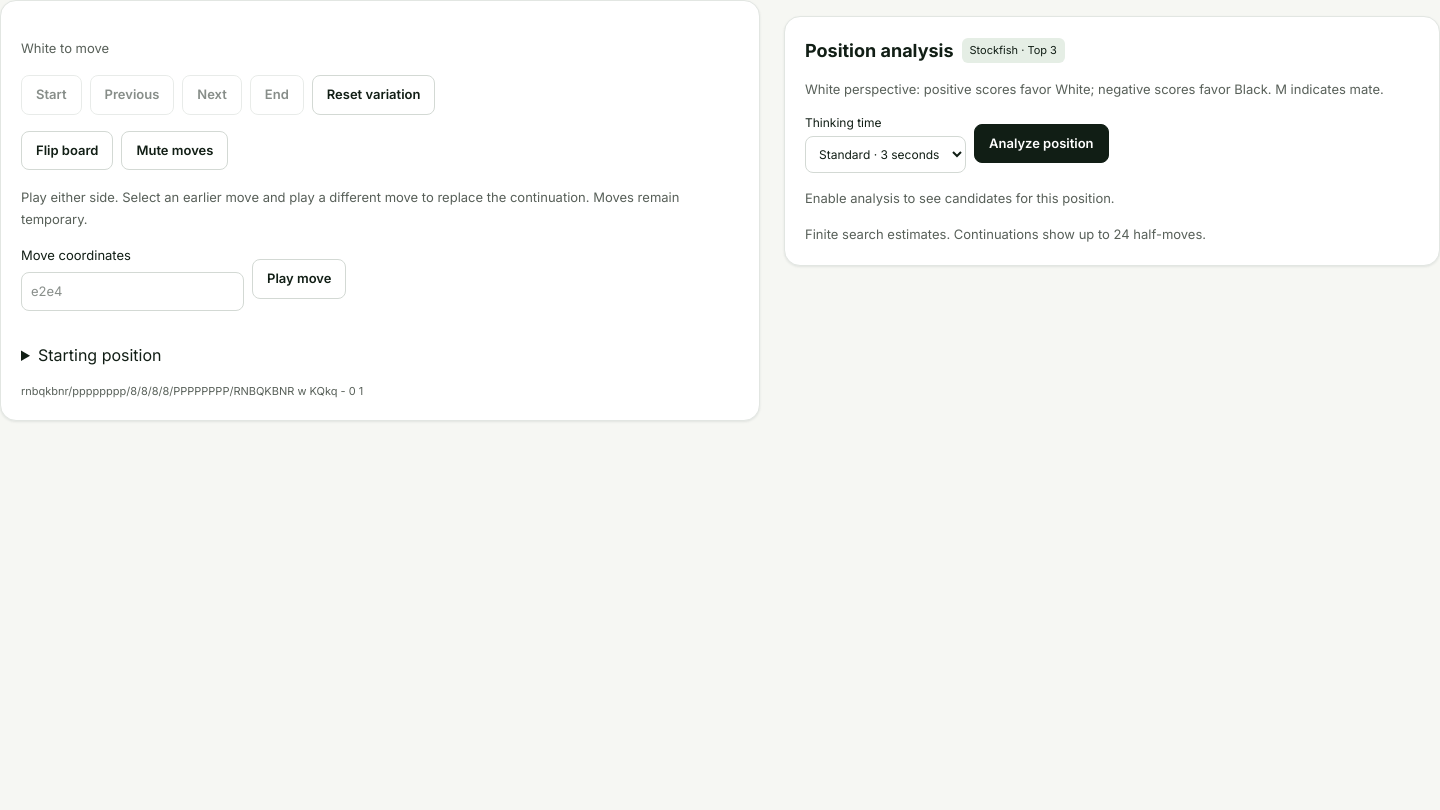
Scenario: promotes with the shared picker and respects terminal positions
The image size is (1440, 810).
Click the heading "Starting position" at point(100, 355), box top-left (38, 345), bottom-right (162, 365)
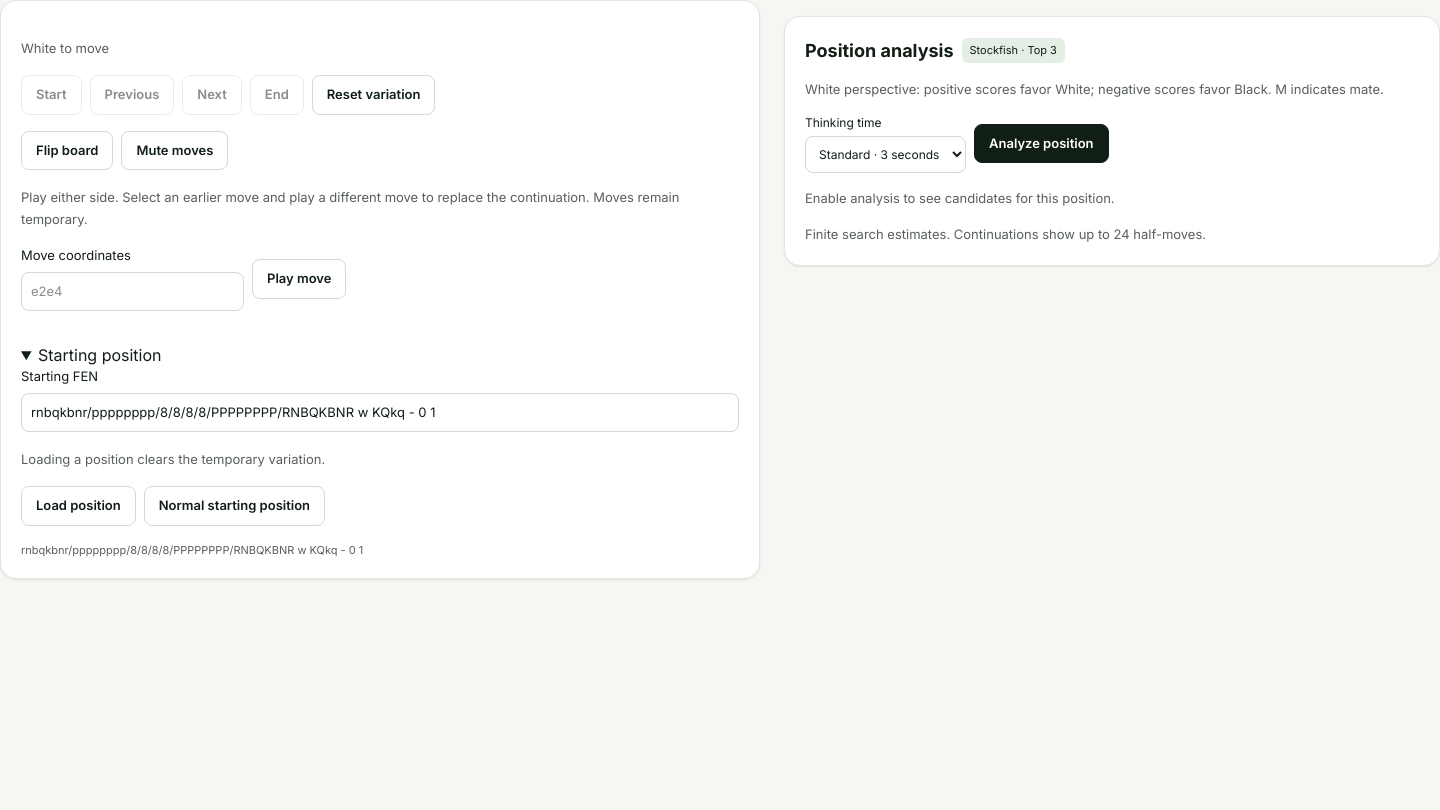
Replace the text in the field labelled "Starting FEN" with "7k/P7/8/8/8/8/8/7K w - - 0 1" at point(380, 413), box top-left (21, 393), bottom-right (739, 432)
Click the button "Load position" at point(78, 506), box top-left (21, 486), bottom-right (136, 526)
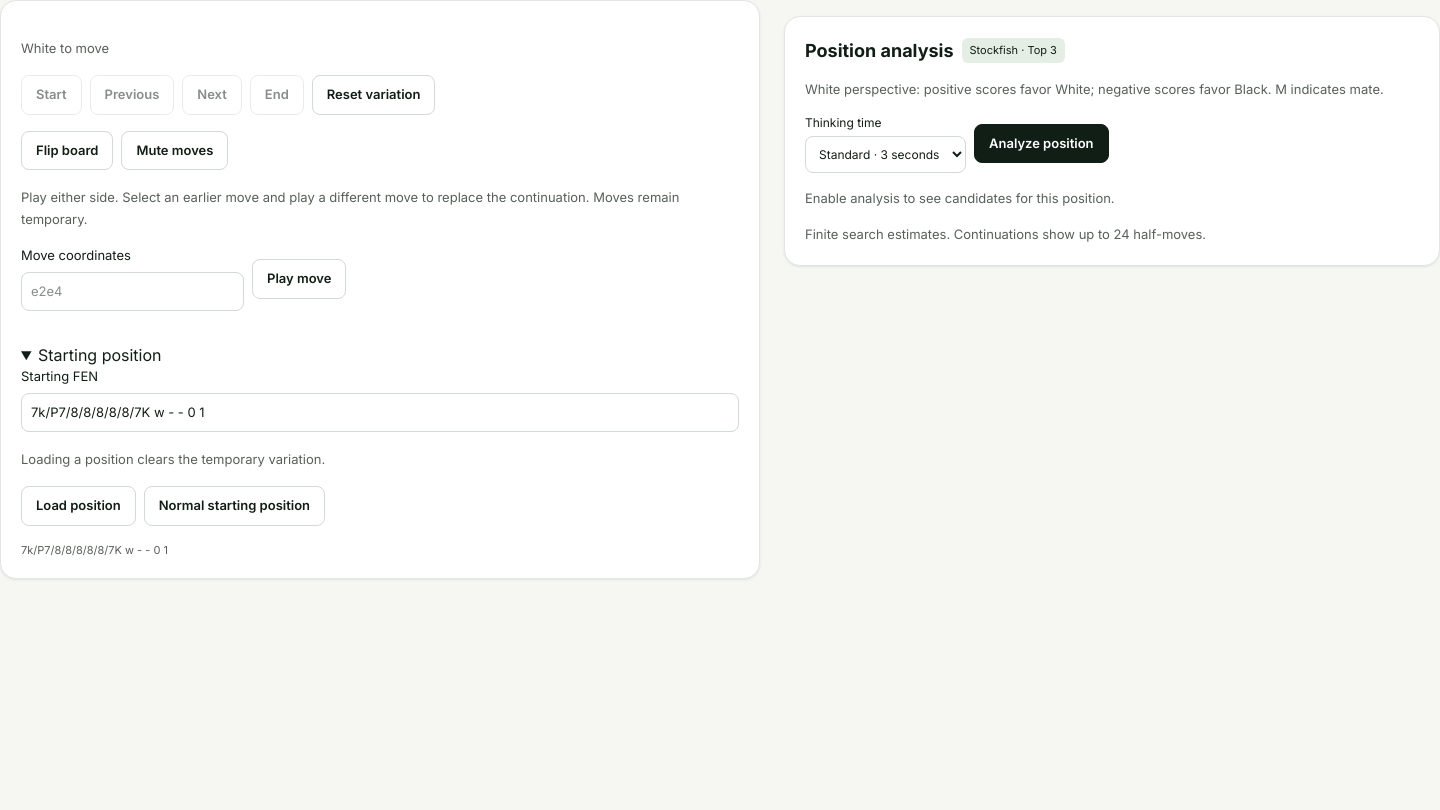
Type "a7a8" into the field labelled "Move coordinates" at point(132, 292), box top-left (21, 272), bottom-right (244, 311)
Click the button "Play move" at point(299, 279), box top-left (252, 259), bottom-right (346, 298)
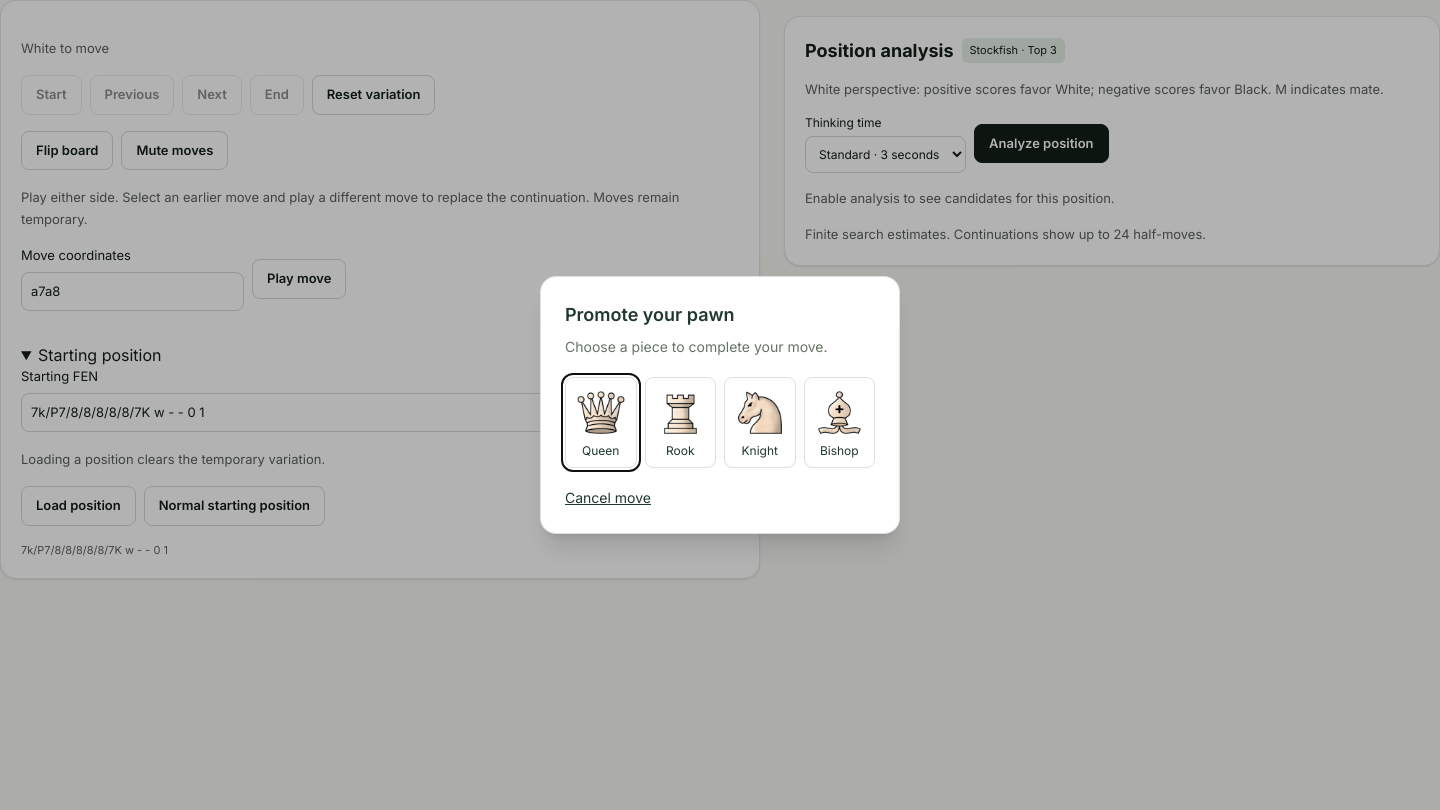
Expected: the dialog "Promote your pawn" is shown, top-left (540, 276), bottom-right (900, 534)
Click the button with aria-label "Promote to knight" at point(760, 423), box top-left (724, 377), bottom-right (796, 468)
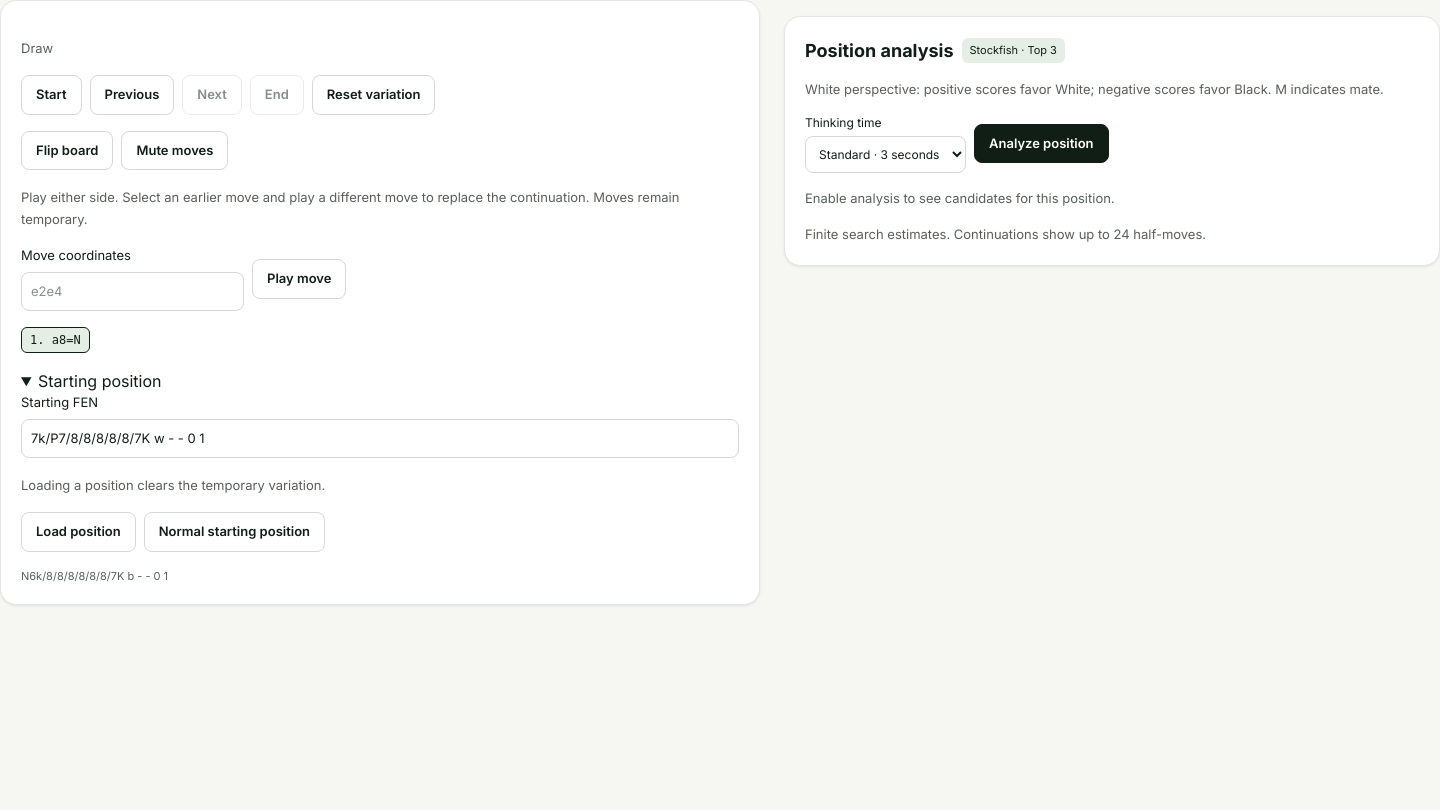
Expected: the message named "Board status" reads "Draw", top-left (21, 40), bottom-right (53, 56)
Type "h8h7" into the field labelled "Move coordinates" at point(132, 292), box top-left (21, 272), bottom-right (244, 311)
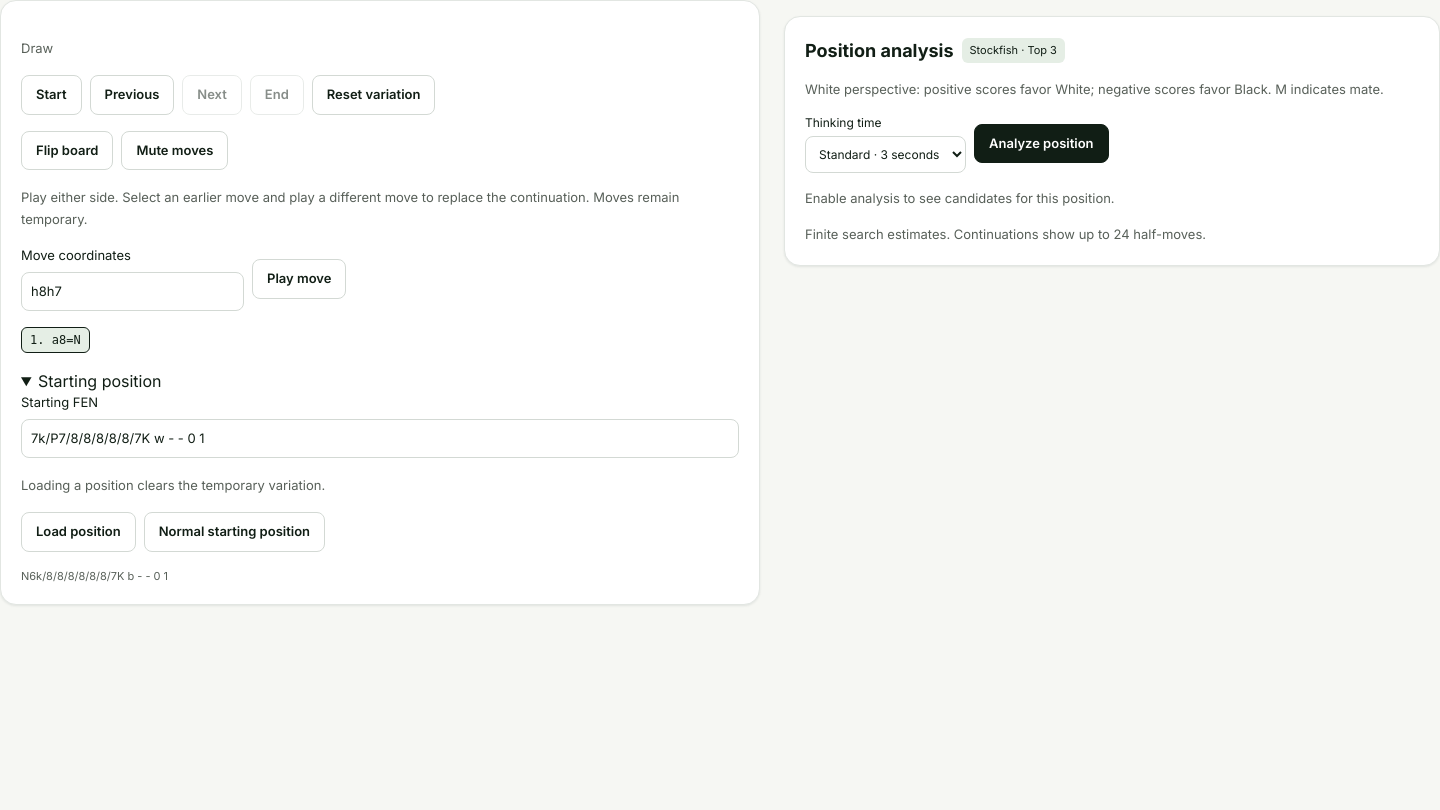
Click the button "Play move" at point(299, 279), box top-left (252, 259), bottom-right (346, 298)
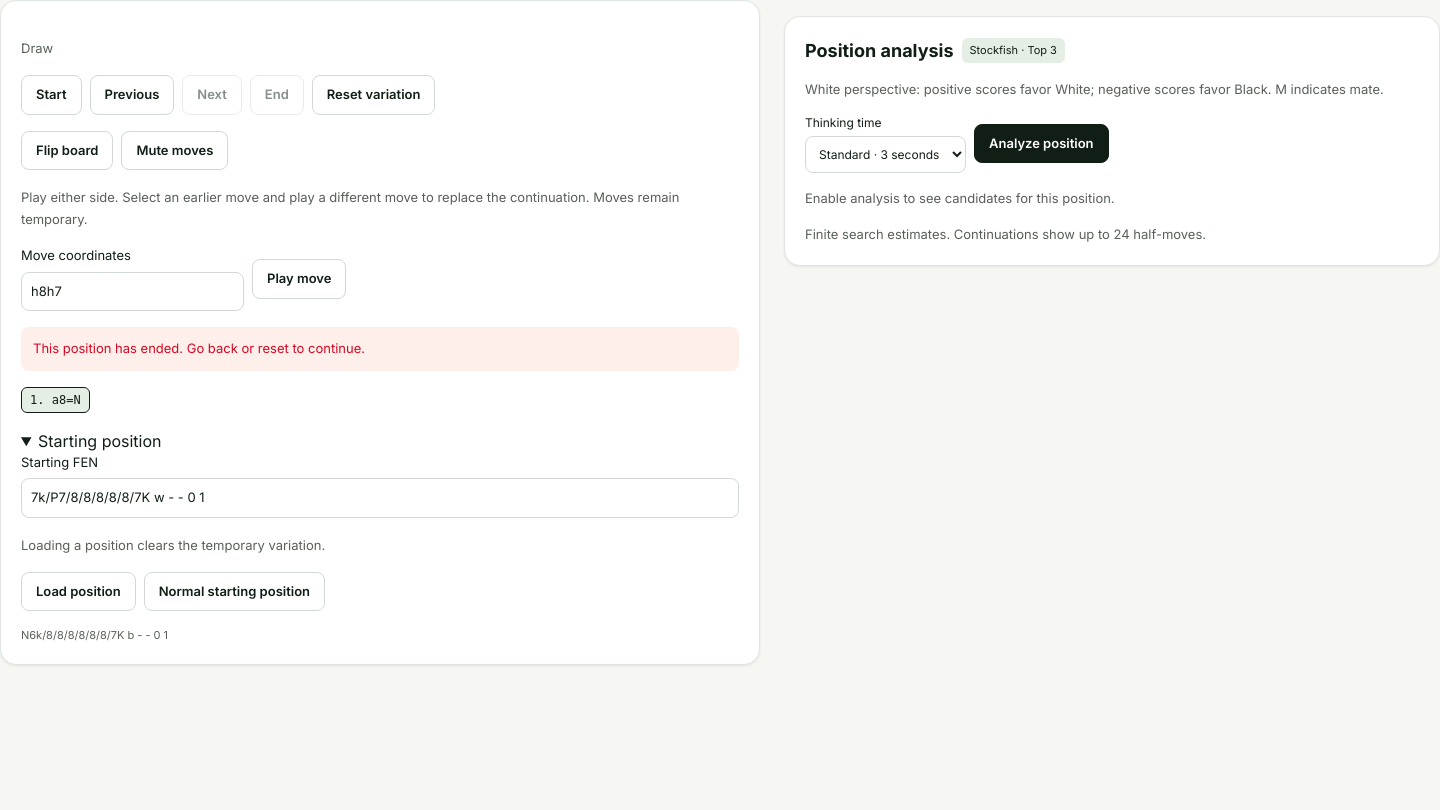
Expected: the message "This position has ended. Go back or reset to continue." is shown, top-left (21, 327), bottom-right (739, 371)
